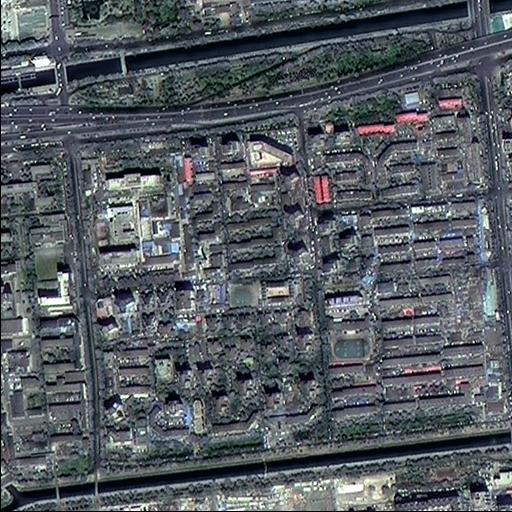school: (226, 273, 313, 312), (323, 310, 374, 362)
